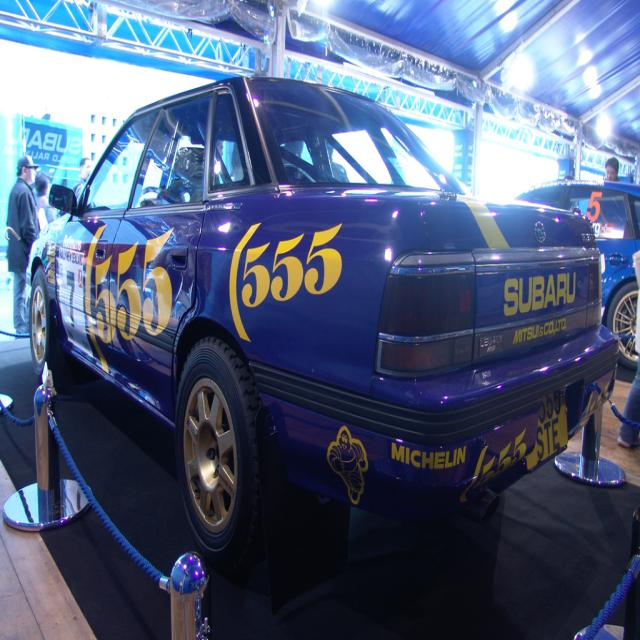car: (27, 67, 625, 557)
